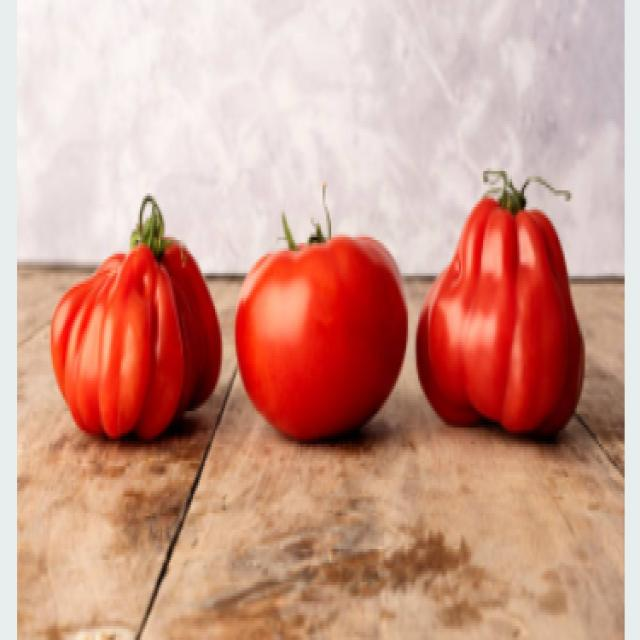Tomato: (425, 167, 587, 440), (60, 190, 229, 438), (245, 189, 406, 439)
